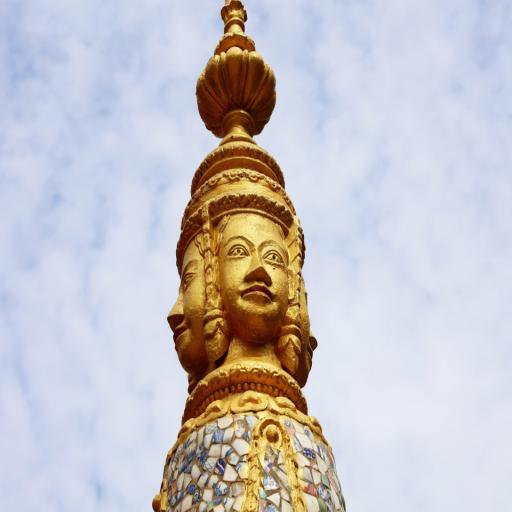than: (138, 3, 360, 421), (211, 208, 289, 346), (282, 220, 322, 396), (165, 230, 214, 373)
